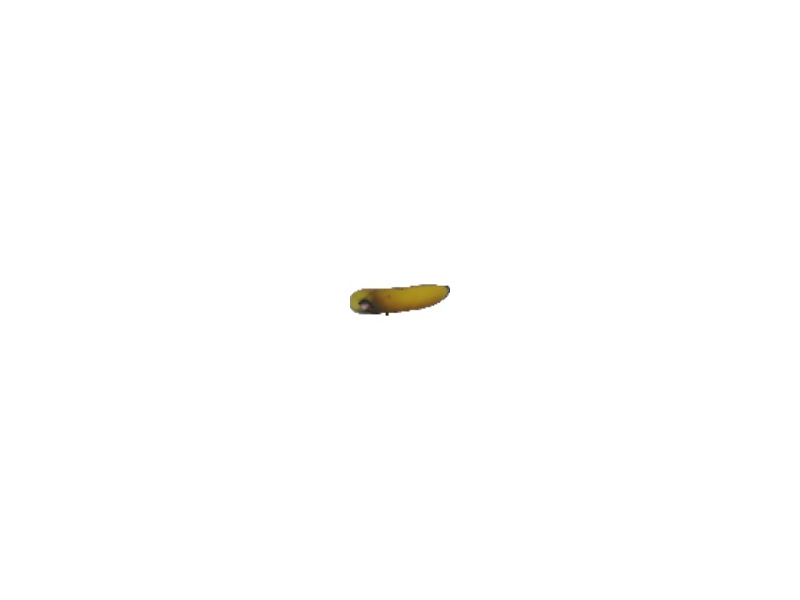banana: (348, 279, 453, 320)
